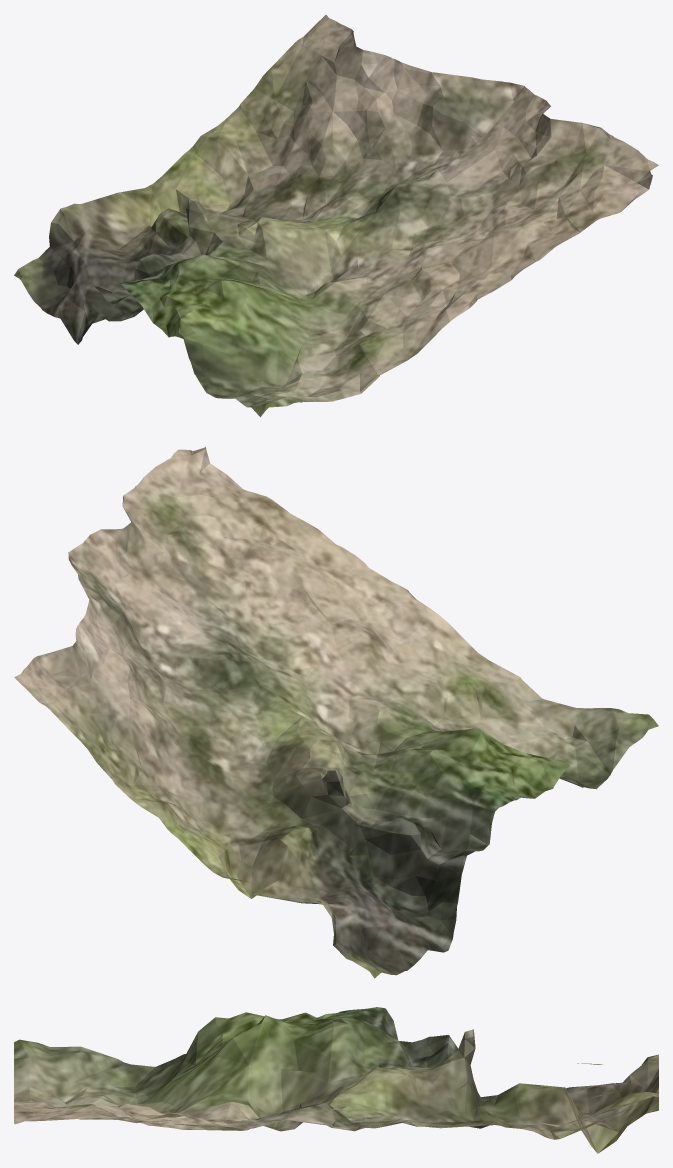
The picture shows the model from 3 angles, top to bottom: view 1: azimuth 30°, elevation 25°; view 2: azimuth 150°, elevation 25°; view 3: azimuth 270°, elevation 25°; orthographic projection. The views are drawn at different scales.
Bounding box in the file's own units: 5.63 × 2.74 × 5.9.
Materials: 3 (3 with a texture image).
